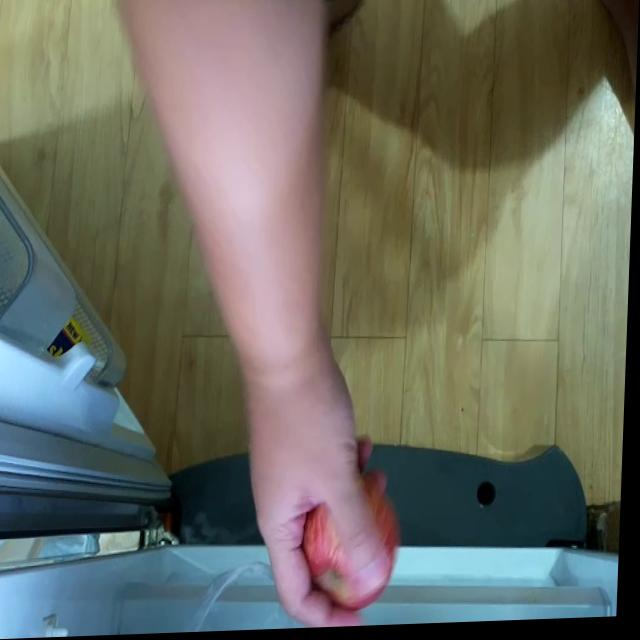apple: (307, 489, 408, 619)
